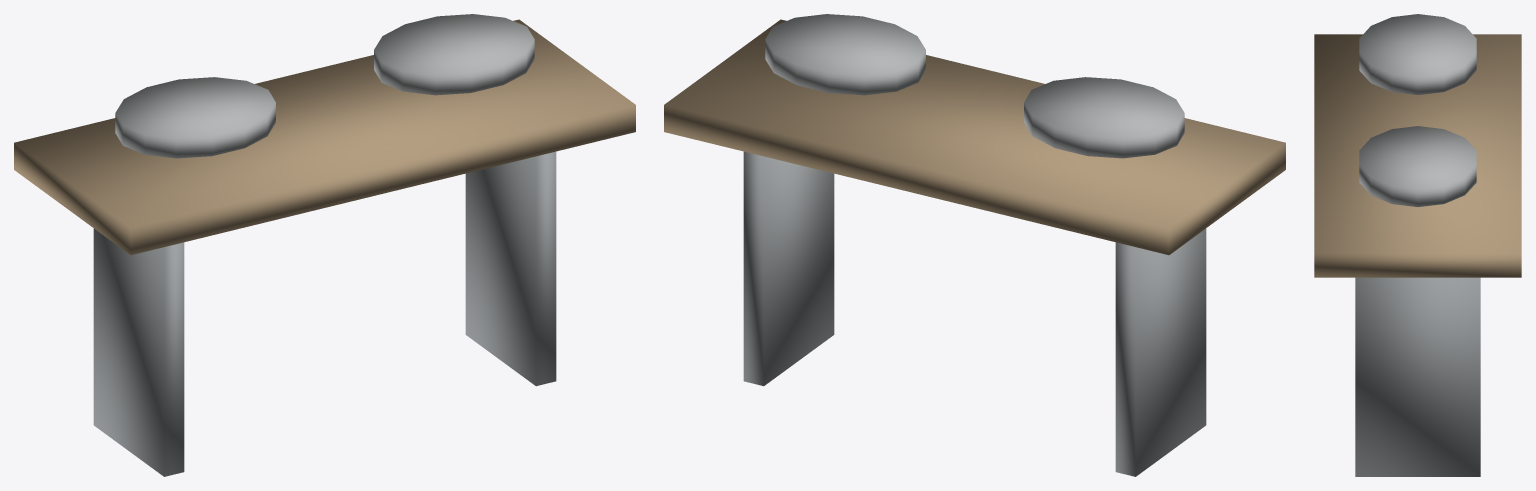
Rendered from projection_rewind_bench__wide.glb.
The picture shows the model from 3 angles, left to right: view 1: azimuth 30°, elevation 25°; view 2: azimuth 150°, elevation 25°; view 3: azimuth 270°, elevation 25°; orthographic projection. The views are drawn at different scales.
Visible parts, largest first — view 1: world; view 2: world; view 3: world.
Boxes of the visible parts, box(x1,y1,x2,y2) form: world: box(14, 14, 635, 476); world: box(664, 14, 1285, 476); world: box(1314, 14, 1521, 476).
Bounding box in the file's own units: 1.55 × 0.96 × 0.62.
